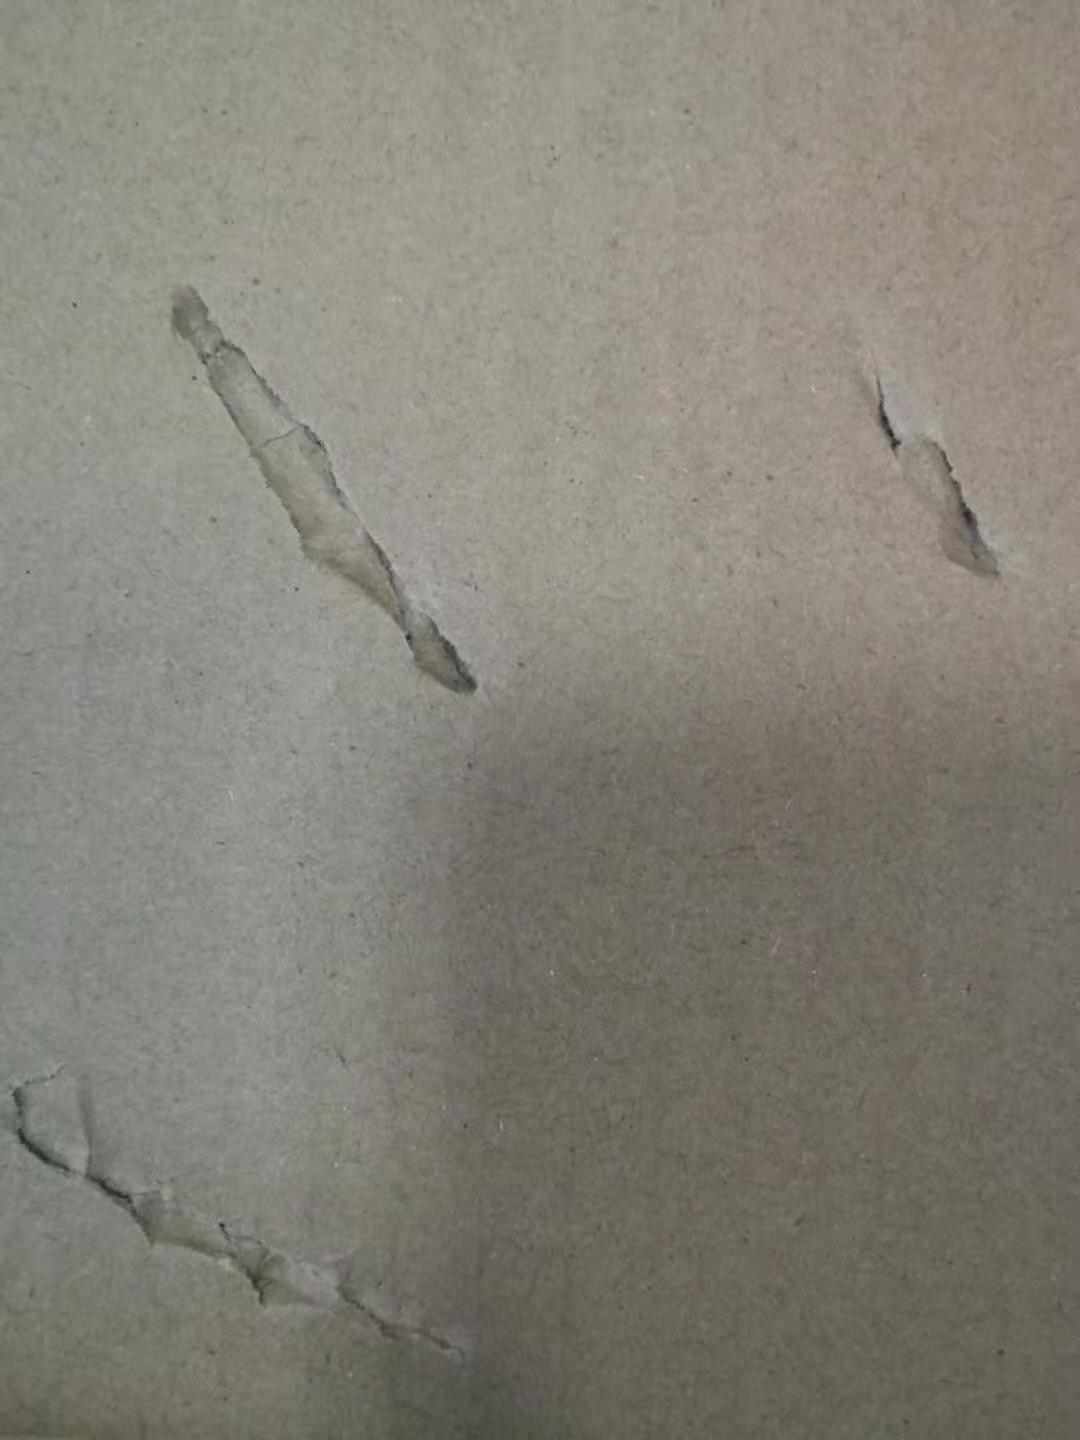defect: (3, 1015, 514, 1392), (134, 236, 518, 736), (808, 298, 1026, 610)
